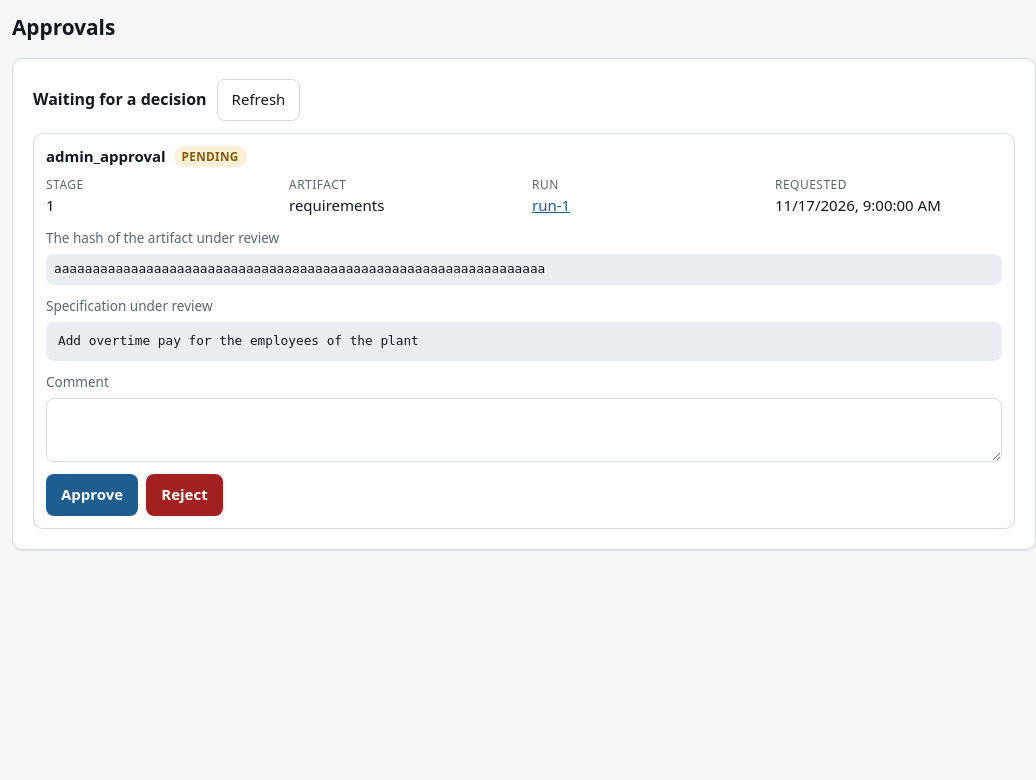
Test: the approvals › shows the artifact under review and approves it with the hash it showed
The image size is (1036, 780).
Expected: the text "Add overtime pay for the employees of the plant" is shown, [46,322,1002,361]
Type "the spec is right" into the text box labelled "Comment".
click(524, 430); type("the spec is right")  # box [46,398,1002,462]
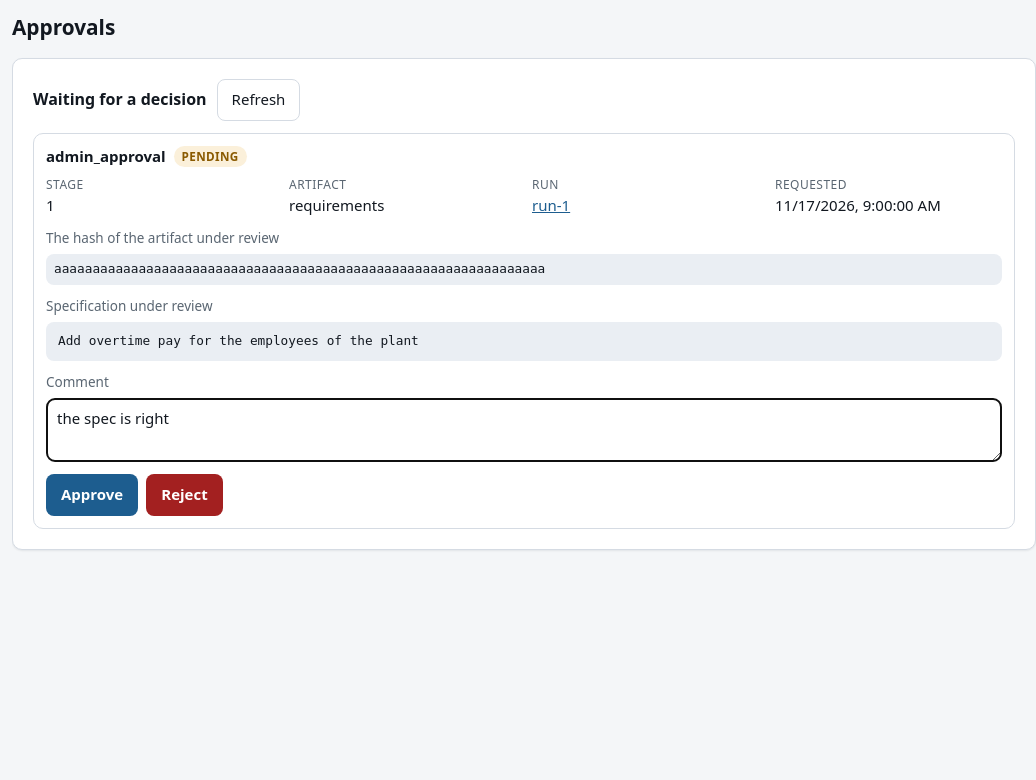
Click the button "Approve".
click(92, 495)  # box [46,474,138,516]
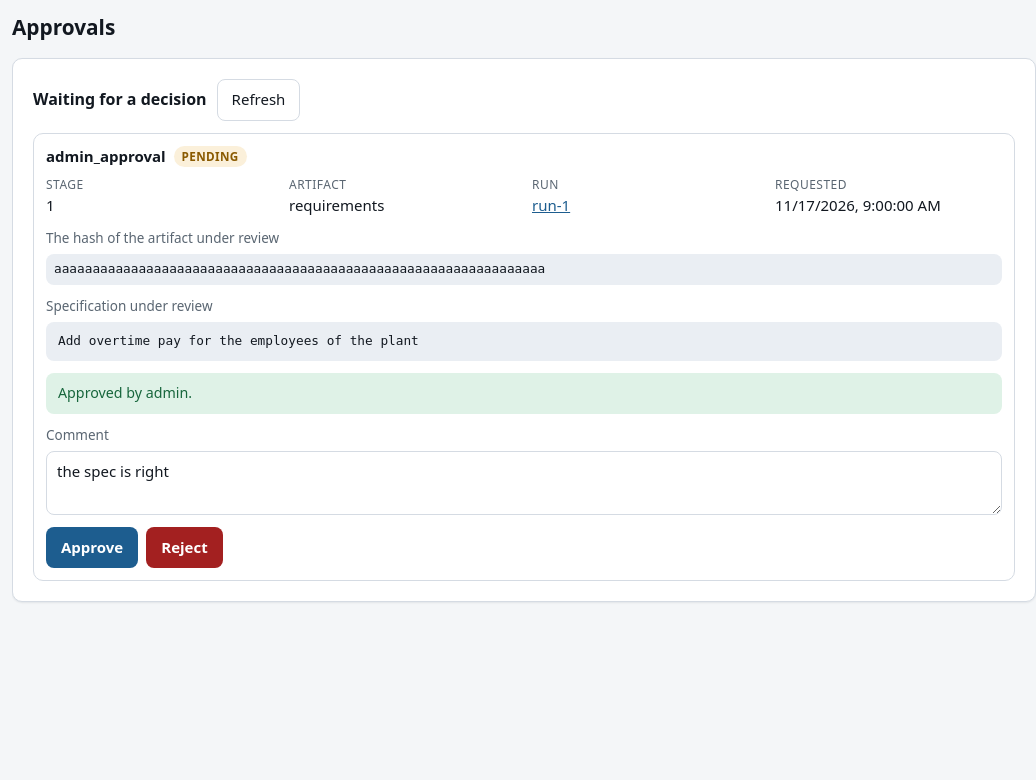
Expected: the text "Approved by admin." is shown, [46,373,1002,414]
